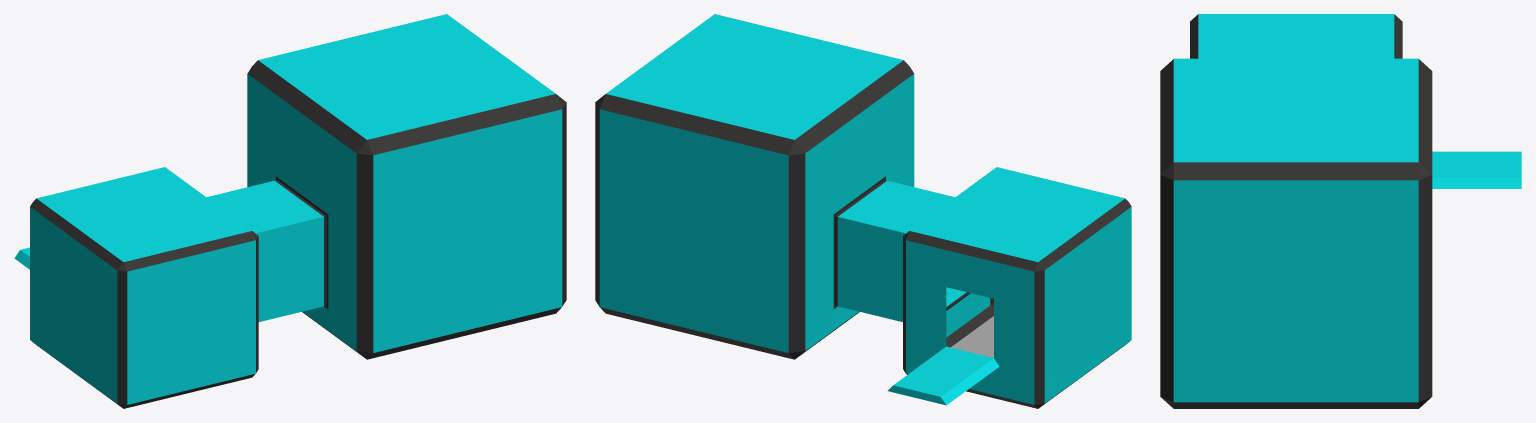
File: glass cube.fbx
The picture shows the model from 3 angles, left to right: view 1: azimuth 30°, elevation 25°; view 2: azimuth 150°, elevation 25°; view 3: azimuth 270°, elevation 25°; orthographic projection. The views are drawn at different scales.
Parts seen in each view (by area): view 1: polySurface1; view 2: polySurface1; view 3: polySurface1.
Boxes of the visible parts, box(x1,y1,x2,y2) form: polySurface1: box(14, 14, 566, 408); polySurface1: box(595, 14, 1131, 408); polySurface1: box(1160, 14, 1521, 408).
Size of the model in its own units: 413 by 198 by 263.
